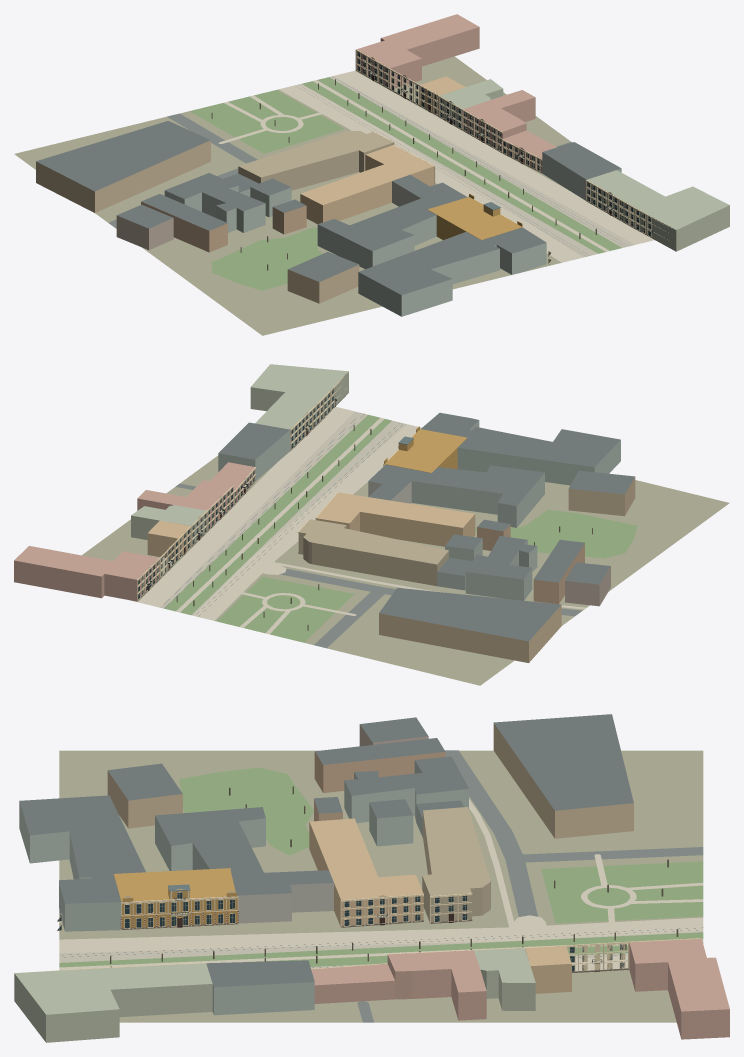
File: sector--1_-3.glb
3 views of the same model, one above another, from view 1: azimuth 30°, elevation 25°; view 2: azimuth 150°, elevation 25°; view 3: azimuth 270°, elevation 25° (orthographic). The views are drawn at different scales.
Parts seen in each view (by area): view 1: -1:-3-masonry, -1:-3-roof, -1:-3-facade, -1:-3-ground, -1:-3-park, -1:-3-paving, -1:-3-stone, -1:-3-boulevard, -1:-3-glass, -1:-3-road; view 2: -1:-3-masonry, -1:-3-roof, -1:-3-ground, -1:-3-facade, -1:-3-park, -1:-3-paving, -1:-3-boulevard, -1:-3-stone, -1:-3-road, -1:-3-glass; view 3: -1:-3-masonry, -1:-3-ground, -1:-3-roof, -1:-3-facade, -1:-3-park, -1:-3-paving, -1:-3-stone, -1:-3-road, -1:-3-boulevard, -1:-3-glass.
Part boxes in pixels (x1=…): -1:-3-masonry: x1=238, y1=14, x2=729, y2=251; -1:-3-roof: x1=36, y1=121, x2=620, y2=294; -1:-3-facade: x1=36, y1=140, x2=621, y2=316; -1:-3-ground: x1=14, y1=56, x2=570, y2=335; -1:-3-park: x1=189, y1=77, x2=621, y2=290; -1:-3-paving: x1=218, y1=71, x2=654, y2=262; -1:-3-stone: x1=355, y1=49, x2=671, y2=264; -1:-3-boulevard: x1=300, y1=76, x2=635, y2=259; -1:-3-glass: x1=358, y1=52, x2=650, y2=262; -1:-3-road: x1=109, y1=113, x2=571, y2=228; -1:-3-masonry: x1=14, y1=364, x2=475, y2=601; -1:-3-roof: x1=218, y1=412, x2=634, y2=641; -1:-3-ground: x1=82, y1=455, x2=729, y2=685; -1:-3-facade: x1=218, y1=420, x2=635, y2=662; -1:-3-park: x1=164, y1=414, x2=637, y2=642; -1:-3-paving: x1=138, y1=407, x2=586, y2=634; -1:-3-boulevard: x1=144, y1=411, x2=406, y2=617; -1:-3-stone: x1=137, y1=372, x2=419, y2=601; -1:-3-road: x1=175, y1=483, x2=582, y2=648; -1:-3-glass: x1=138, y1=389, x2=335, y2=598; -1:-3-masonry: x1=14, y1=807, x2=729, y2=1042; -1:-3-ground: x1=59, y1=750, x2=703, y2=1022; -1:-3-roof: x1=19, y1=714, x2=633, y2=987; -1:-3-facade: x1=19, y1=723, x2=633, y2=1015; -1:-3-park: x1=59, y1=767, x2=703, y2=970; -1:-3-paving: x1=59, y1=799, x2=703, y2=971; -1:-3-stone: x1=25, y1=888, x2=702, y2=972; -1:-3-road: x1=357, y1=750, x2=703, y2=1022; -1:-3-boulevard: x1=59, y1=931, x2=703, y2=968; -1:-3-glass: x1=57, y1=892, x2=624, y2=971.
Size of the model in its own units: 221 by 13.35 by 222.
